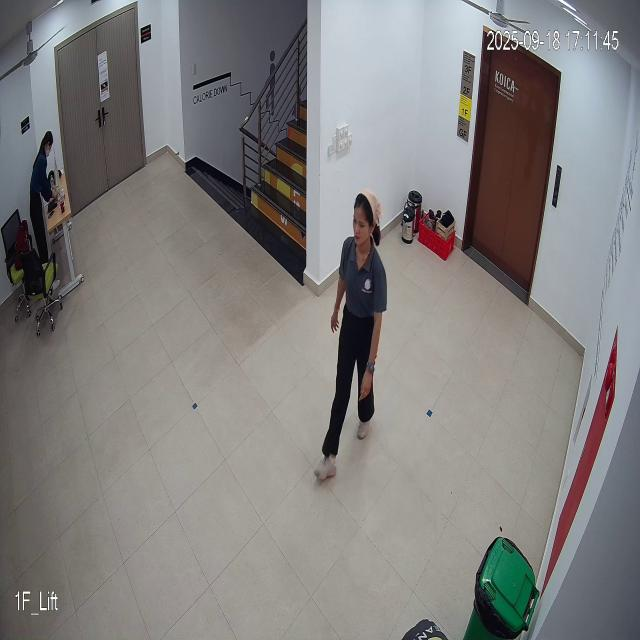face: (350, 189, 378, 259)
